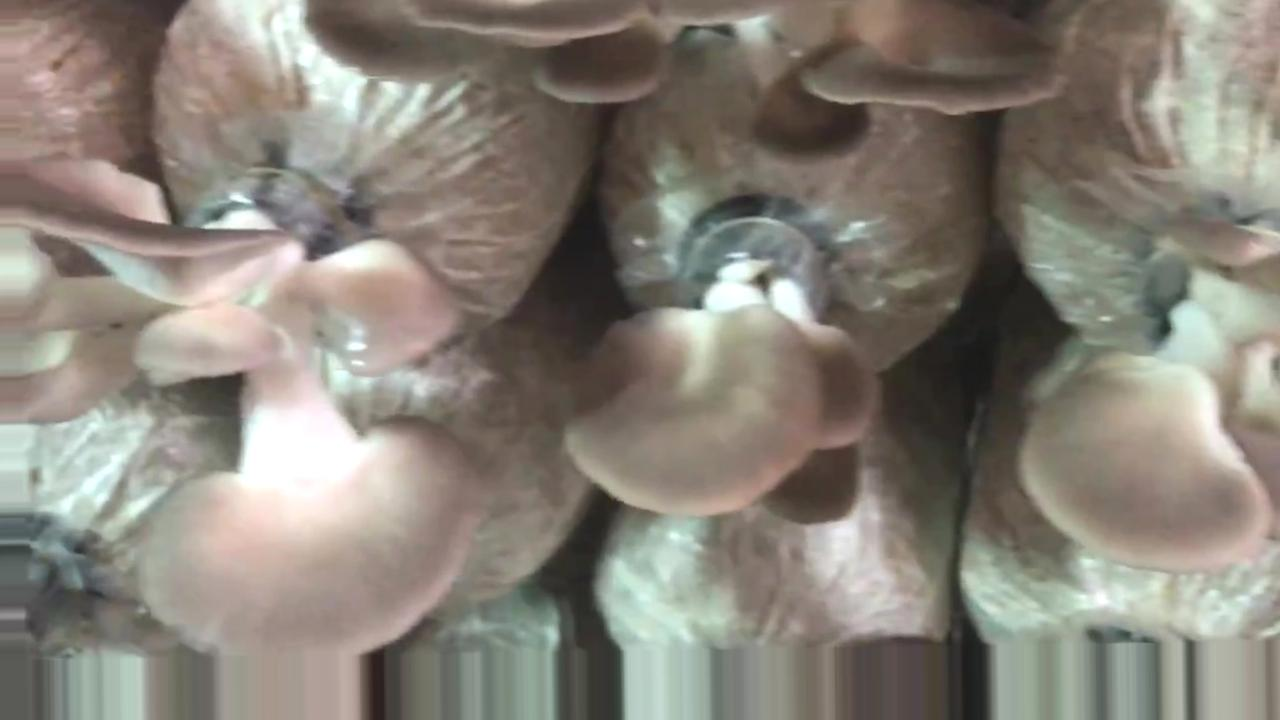nam: (1, 156, 477, 660), (299, 5, 1077, 168), (561, 191, 884, 542), (1018, 207, 1280, 580)
